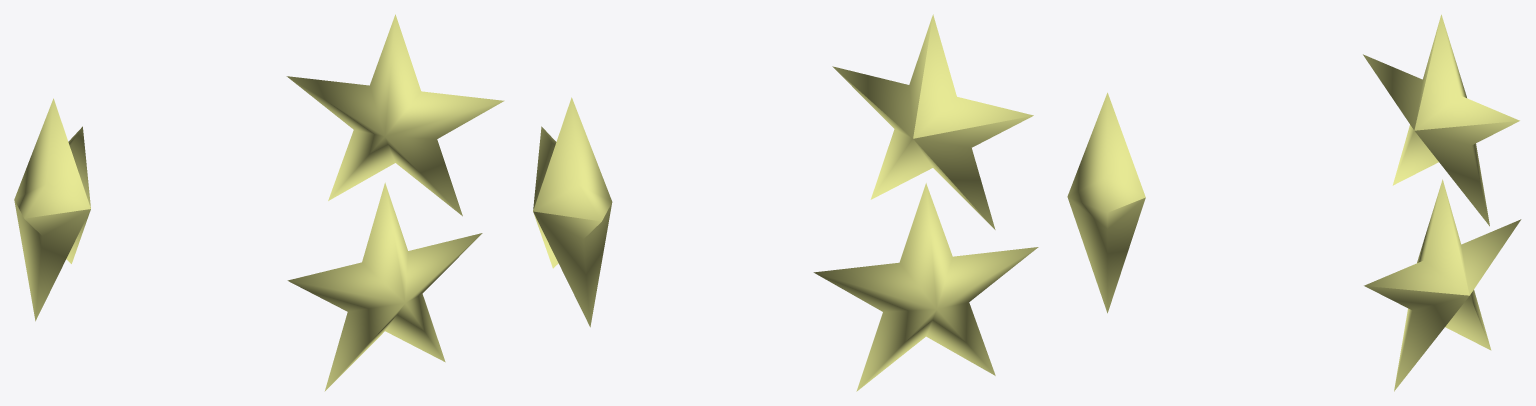
File: hosi3.fbx
The picture shows the model from 3 angles, left to right: view 1: azimuth 30°, elevation 25°; view 2: azimuth 150°, elevation 25°; view 3: azimuth 270°, elevation 25°; orthographic projection. The views are drawn at different scales.
Visible parts, largest first — view 1: polySurface3; view 2: polySurface3; view 3: polySurface3.
Part boxes in pixels (left/top/right/bottom): polySurface3: left=14, top=14, right=504, bottom=391; polySurface3: left=533, top=14, right=1038, bottom=391; polySurface3: left=1067, top=14, right=1521, bottom=391.
Size of the model in its own units: 32.04 by 12.41 by 26.55.
